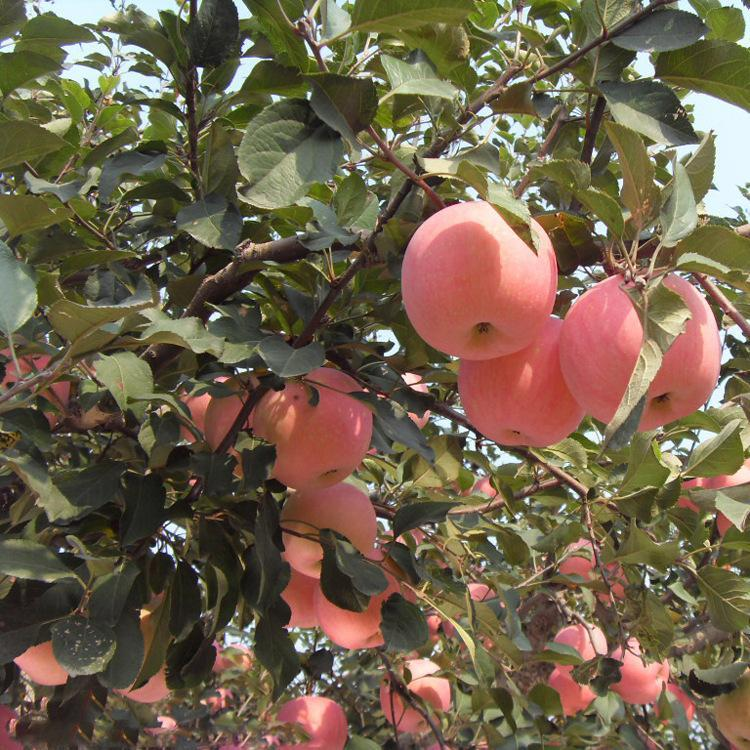apple: (559, 267, 723, 436), (397, 195, 557, 359), (457, 317, 586, 448), (249, 364, 375, 489), (278, 480, 379, 581), (315, 562, 403, 651), (274, 696, 347, 750)
